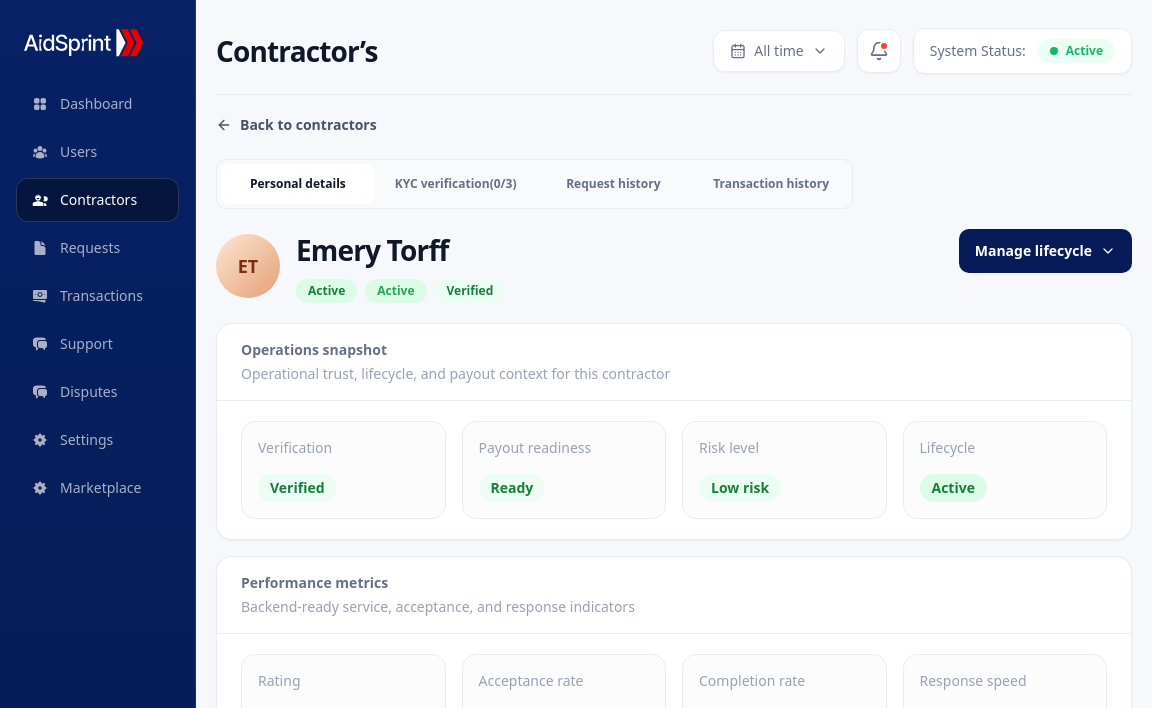
Test case: ContractorsPage › requires a reason when suspending a contractor from the details page
Click the button "Manage lifecycle" at (1045, 251), box [959,229,1132,273]
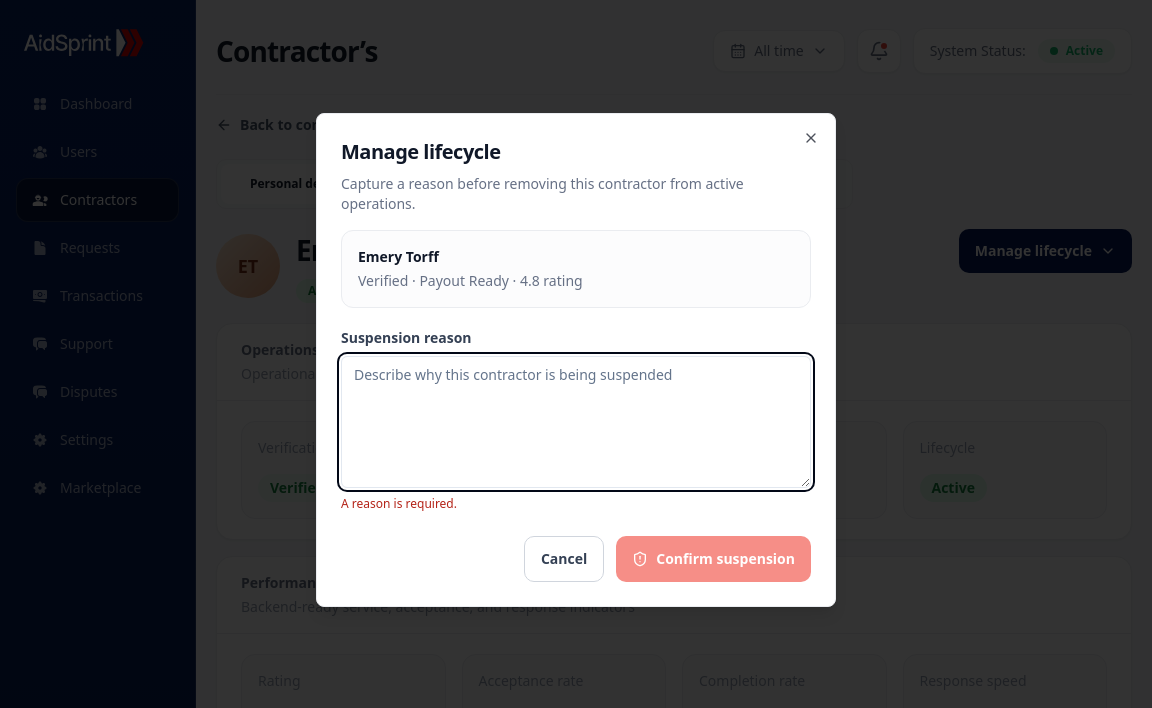
Check: the dialog "Manage lifecycle" is shown, box [316,113,836,607]
Check: the text "A reason is required." is shown, box [341,495,457,512]
Type "Verification blockers have been cleared and complaints resolved." into the text box named "Suspension reason" at (576, 422), box [341,356,811,488]
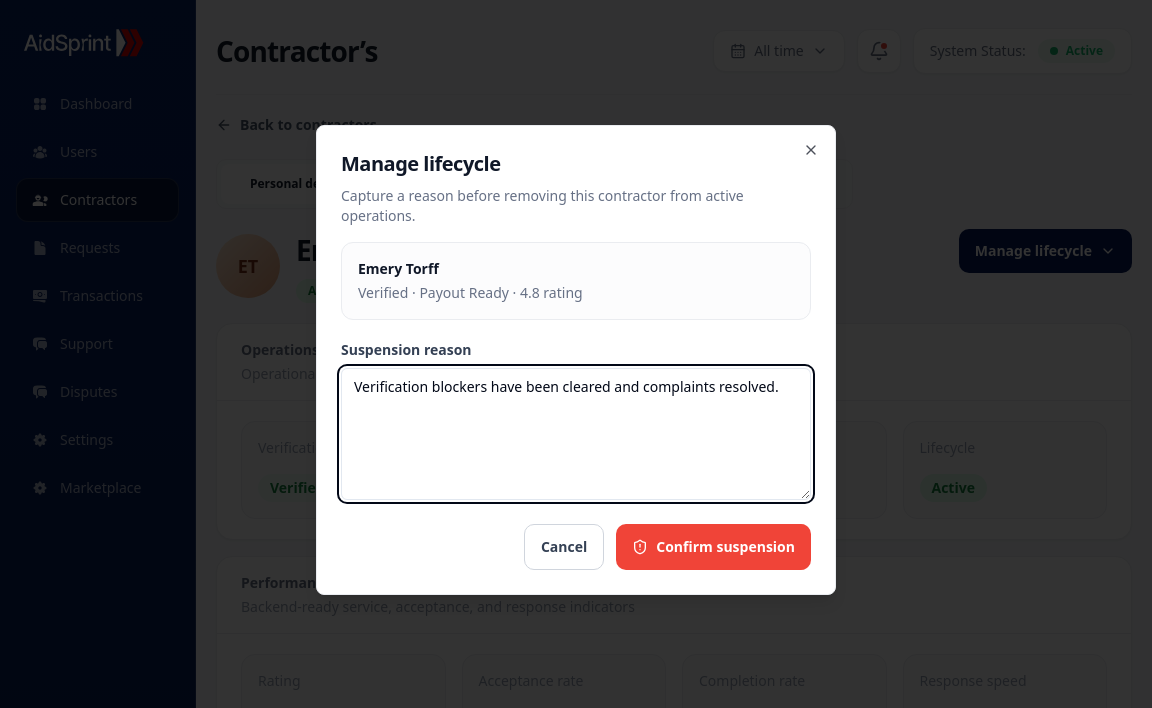
Click the button "Confirm suspension" at (714, 547), box [616,524,811,570]
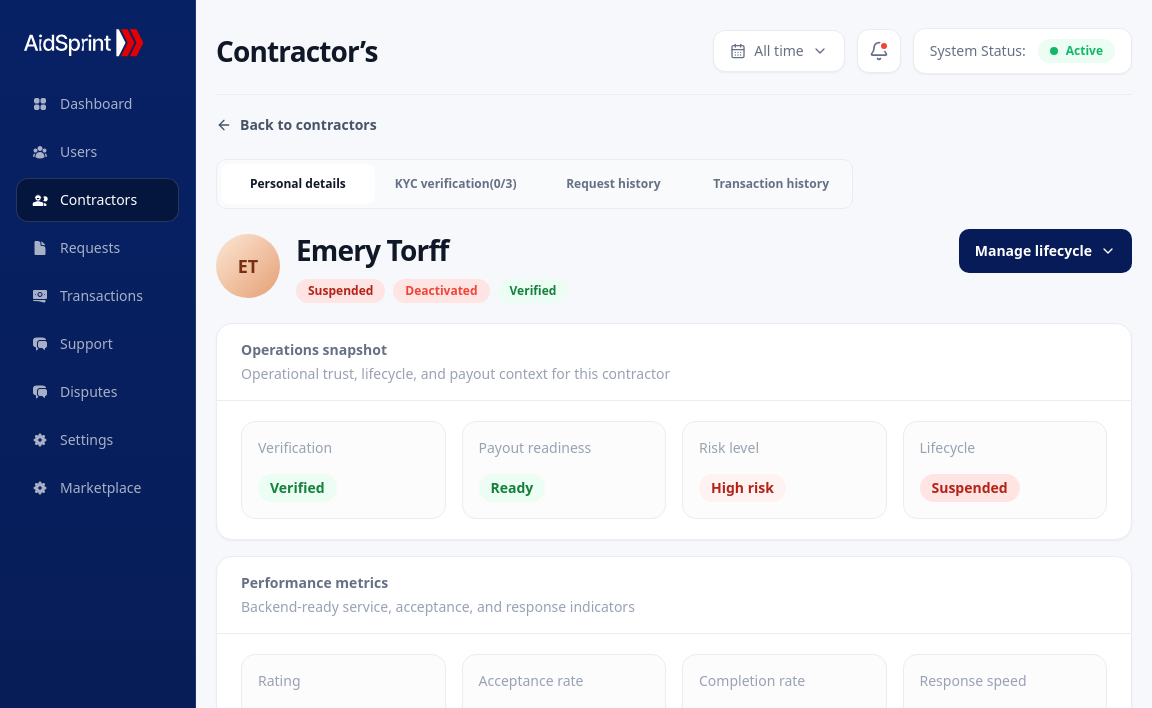
Check: the text "Suspended" next to "Deactivated" is shown, box [308,282,373,299]
